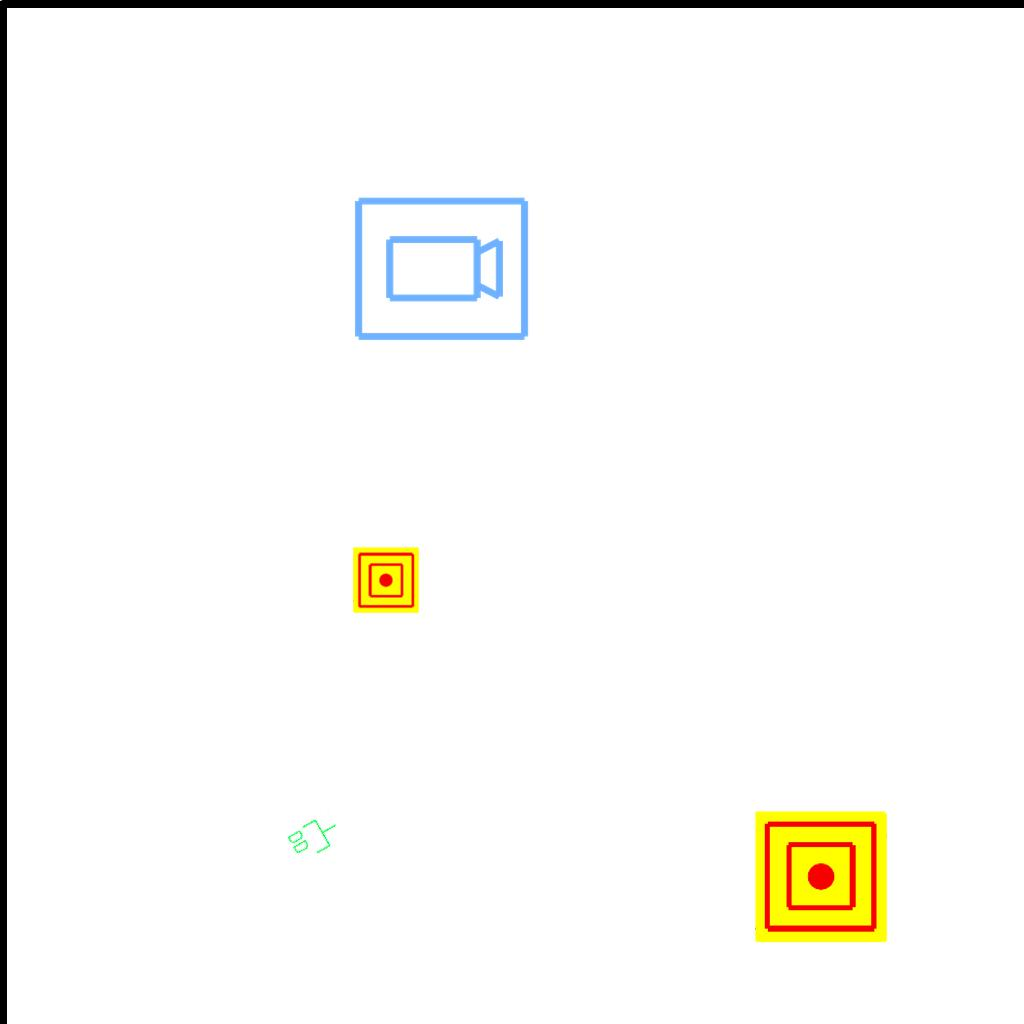Datenanschluss_zweifach: (283, 809, 346, 865)
KFO_Kamera_mit_Festobjektiv: (350, 193, 532, 347)
NAM-Nichtautomatischer_Melder: (755, 811, 887, 943), (353, 547, 419, 613)
